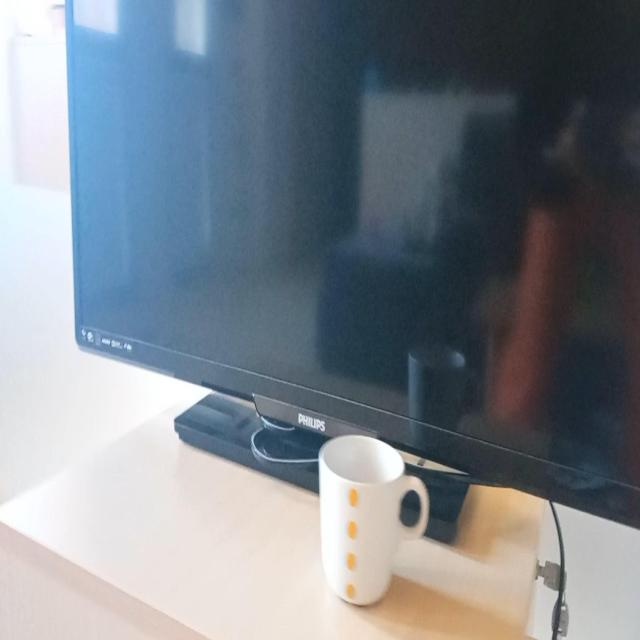cup: (317, 426, 430, 619)
